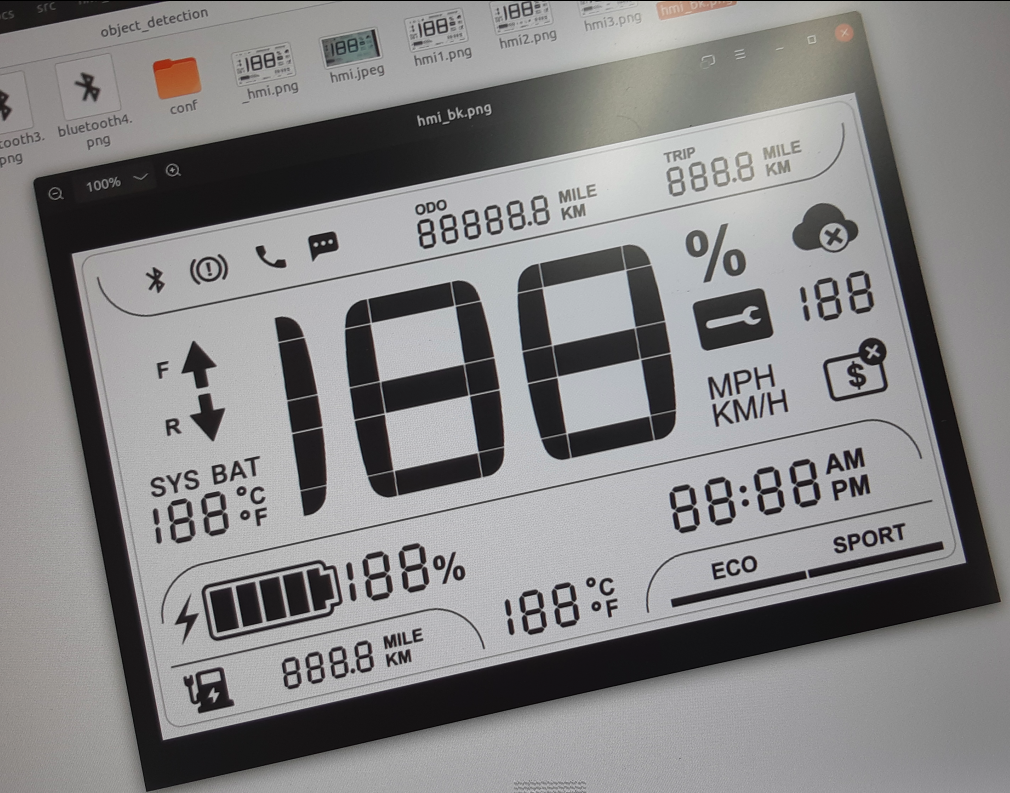bluetooth_on: (140, 264, 171, 296)
braking_on: (186, 252, 231, 289)
calling_on: (251, 242, 291, 273)
connection_lost: (789, 200, 861, 258)
error_code: (692, 287, 777, 352)
low_battery: (182, 666, 240, 716)
sms_on: (304, 228, 342, 266)
vin_id: (821, 336, 892, 404)
